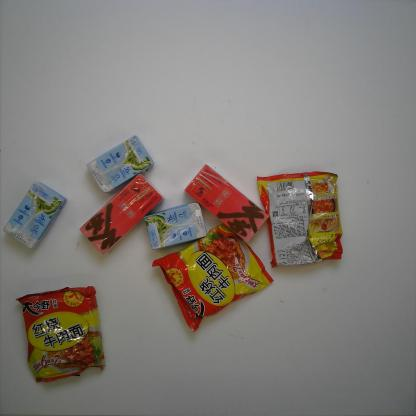Instant Drink: (78, 173, 165, 258), (184, 162, 271, 244)
Instant Noodles: (151, 217, 277, 334), (13, 284, 108, 384), (255, 168, 344, 270)
Milk: (2, 178, 68, 250), (85, 134, 158, 194), (144, 199, 208, 251)
